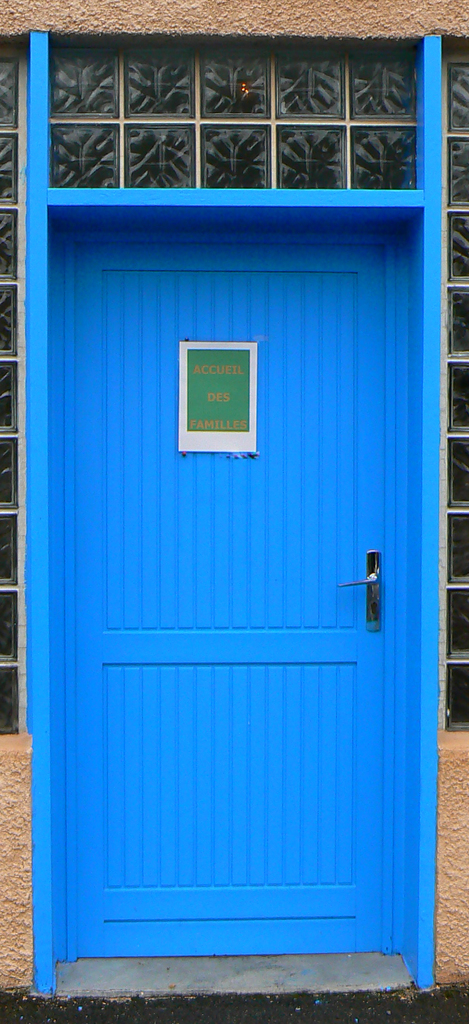door: (53, 245, 398, 969)
handle: (341, 553, 378, 607)
